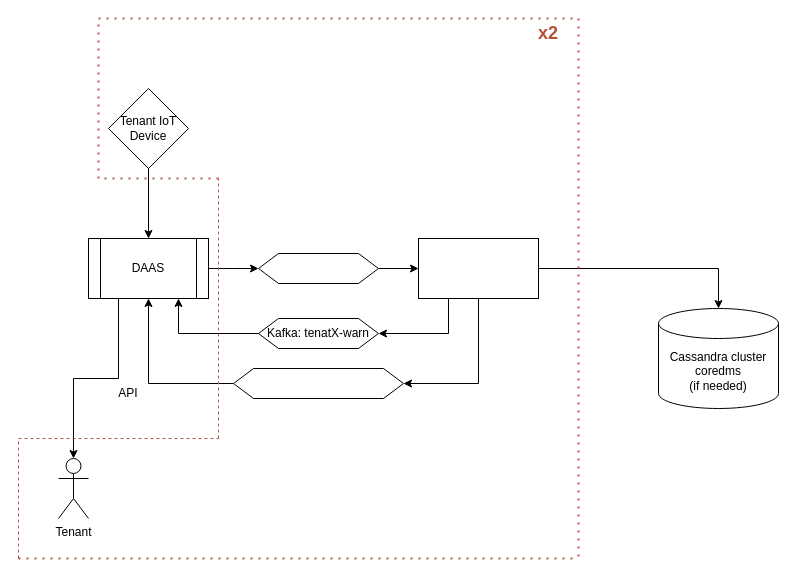
Some shapes in this 796 by 577 pixel diagram are drawn without their labels. Each missing label, with the centre of its shape:
"Kafka: tenatX-data" belongs at (318,268).
"Kafka: tenatX-output-data" belongs at (318,383).
"Spark job: tenantstreamapp" belongs at (478,268).
